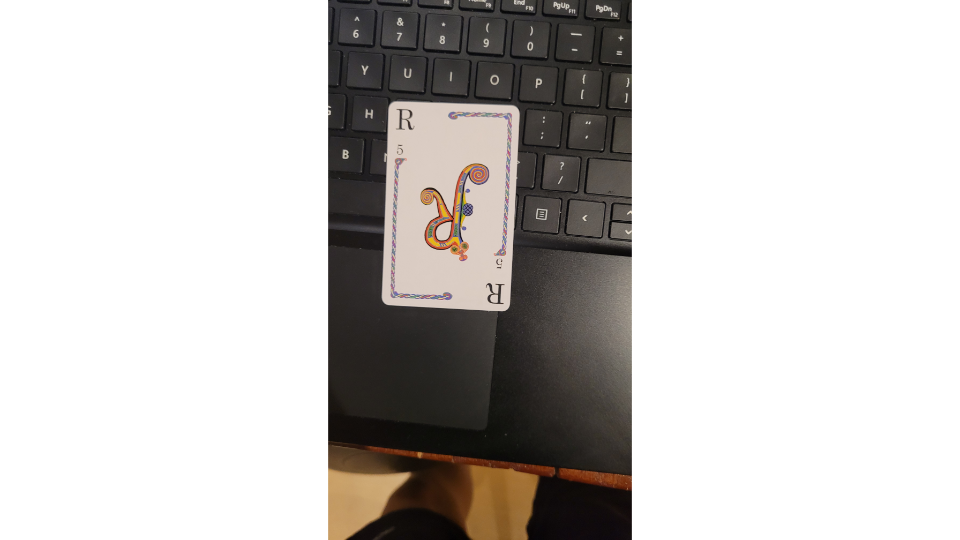R: (377, 95, 524, 315)
